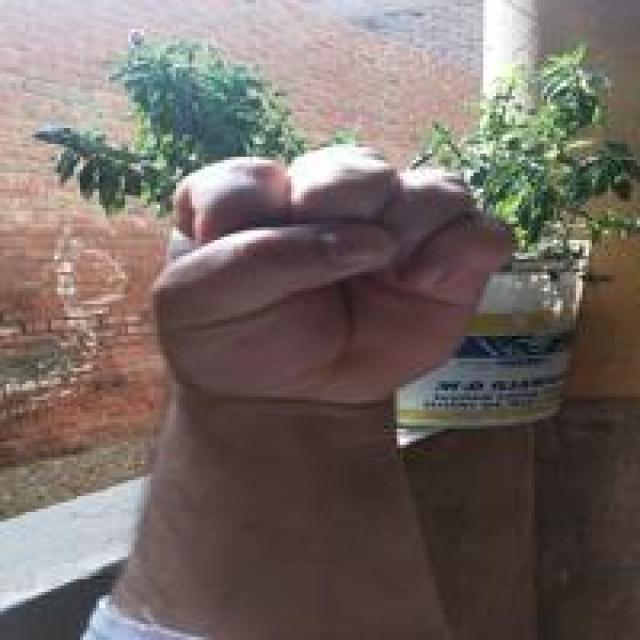E: (137, 144, 518, 413)
